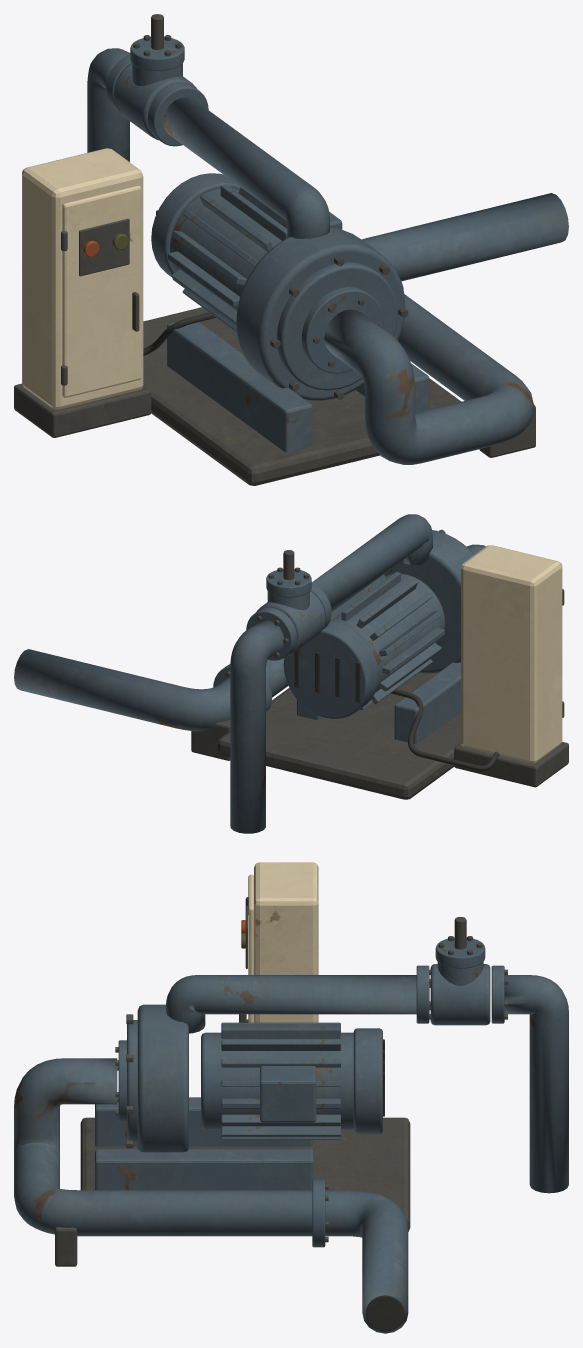
Rendered from SM_IntakeDemo_Pump.fbx.
3 renders of one model, top to bottom at view 1: azimuth 30°, elevation 25°; view 2: azimuth 150°, elevation 25°; view 3: azimuth 270°, elevation 25°, orthographic. The views are drawn at different scales.
Parts seen in each view (by area): view 1: SM_IntakeDemo_Pump; view 2: SM_IntakeDemo_Pump; view 3: SM_IntakeDemo_Pump.
Part boxes in pixels (left/top/right/bottom): SM_IntakeDemo_Pump: left=14, top=14, right=568, bottom=485; SM_IntakeDemo_Pump: left=14, top=514, right=568, bottom=833; SM_IntakeDemo_Pump: left=14, top=862, right=568, bottom=1333.
Size of what is drawn, in the model's own units: 357 by 325 by 180.
